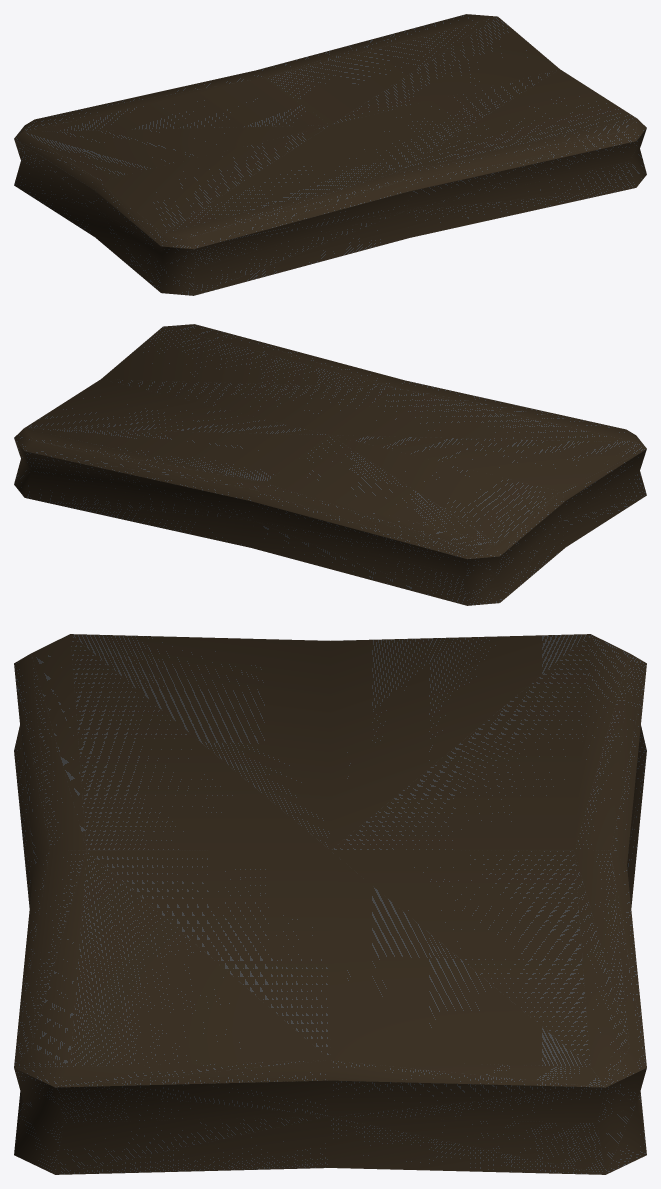
File: MattressExp.obj
The picture shows the model from 3 angles, top to bottom: view 1: azimuth 30°, elevation 25°; view 2: azimuth 150°, elevation 25°; view 3: azimuth 270°, elevation 25°; orthographic projection. The views are drawn at different scales.
Parts seen in each view (by area): view 1: polymsh18; view 2: polymsh18; view 3: polymsh18.
Part boxes in pixels (x1,y1,x2,y2): polymsh18: (14,14,646,295); polymsh18: (14,324,646,605); polymsh18: (14,634,646,1174).
Bounding box in the file's own units: 5.16 × 0.5547 × 3.11.
